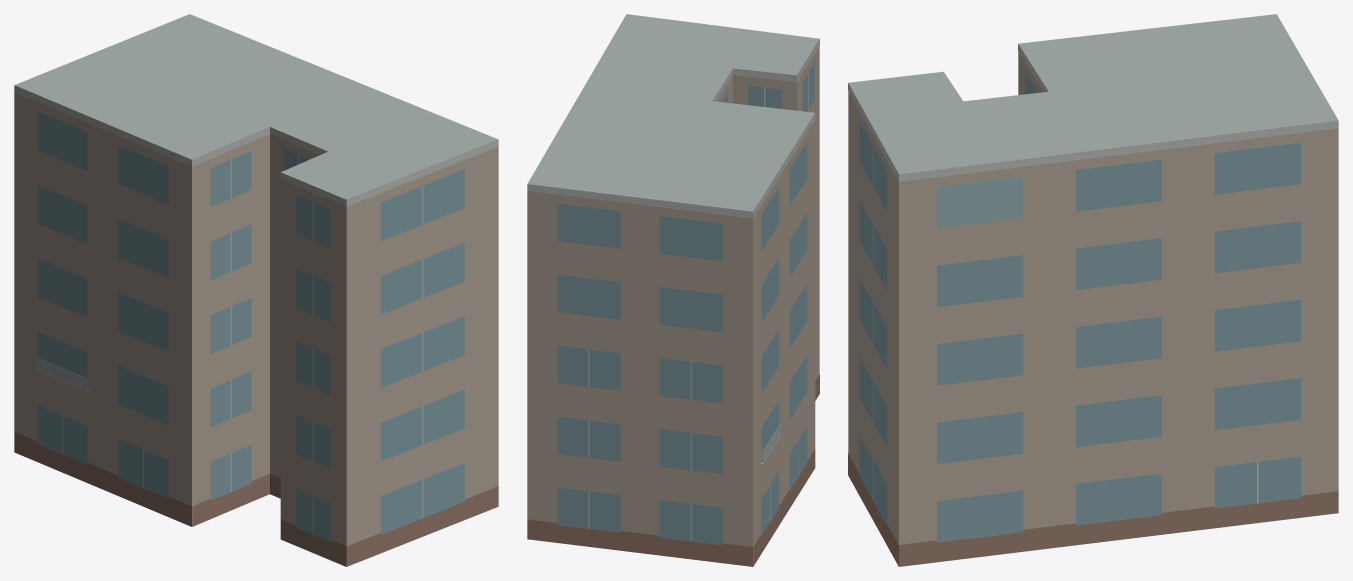
Rendered from survey-upis-32502496.glb.
The picture shows the model from 3 angles, left to right: view 1: azimuth 30°, elevation 25°; view 2: azimuth 150°, elevation 25°; view 3: azimuth 270°, elevation 25°; orthographic projection. The views are drawn at different scales.
Parts seen in each view (by area): view 1: survey-upis-32502496.tmp; view 2: survey-upis-32502496.tmp; view 3: survey-upis-32502496.tmp.
Part boxes in pixels (x1=…): survey-upis-32502496.tmp: x1=14, y1=14, x2=498, y2=566; survey-upis-32502496.tmp: x1=527, y1=14, x2=819, y2=566; survey-upis-32502496.tmp: x1=848, y1=14, x2=1338, y2=566.
Size of the model in its own units: 11.06 by 12.6 by 14.29.
